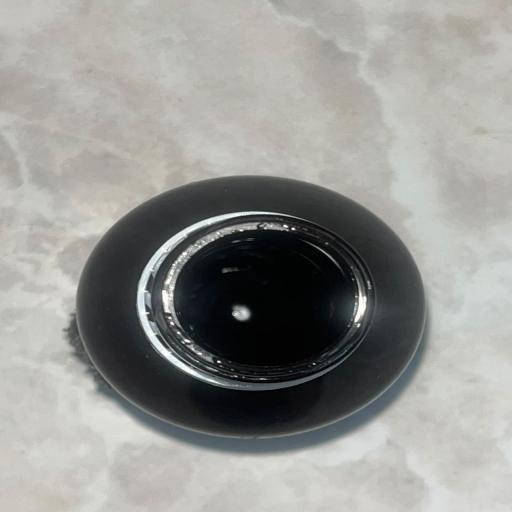HDPE: (47, 136, 462, 501)
